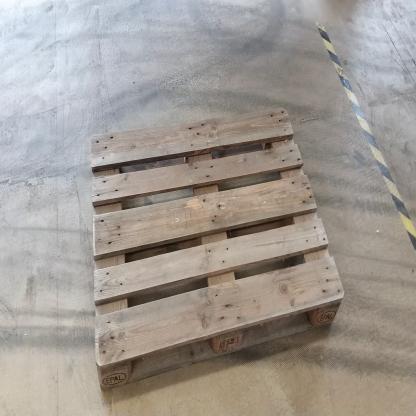BoxFace: (87, 101, 347, 399)
